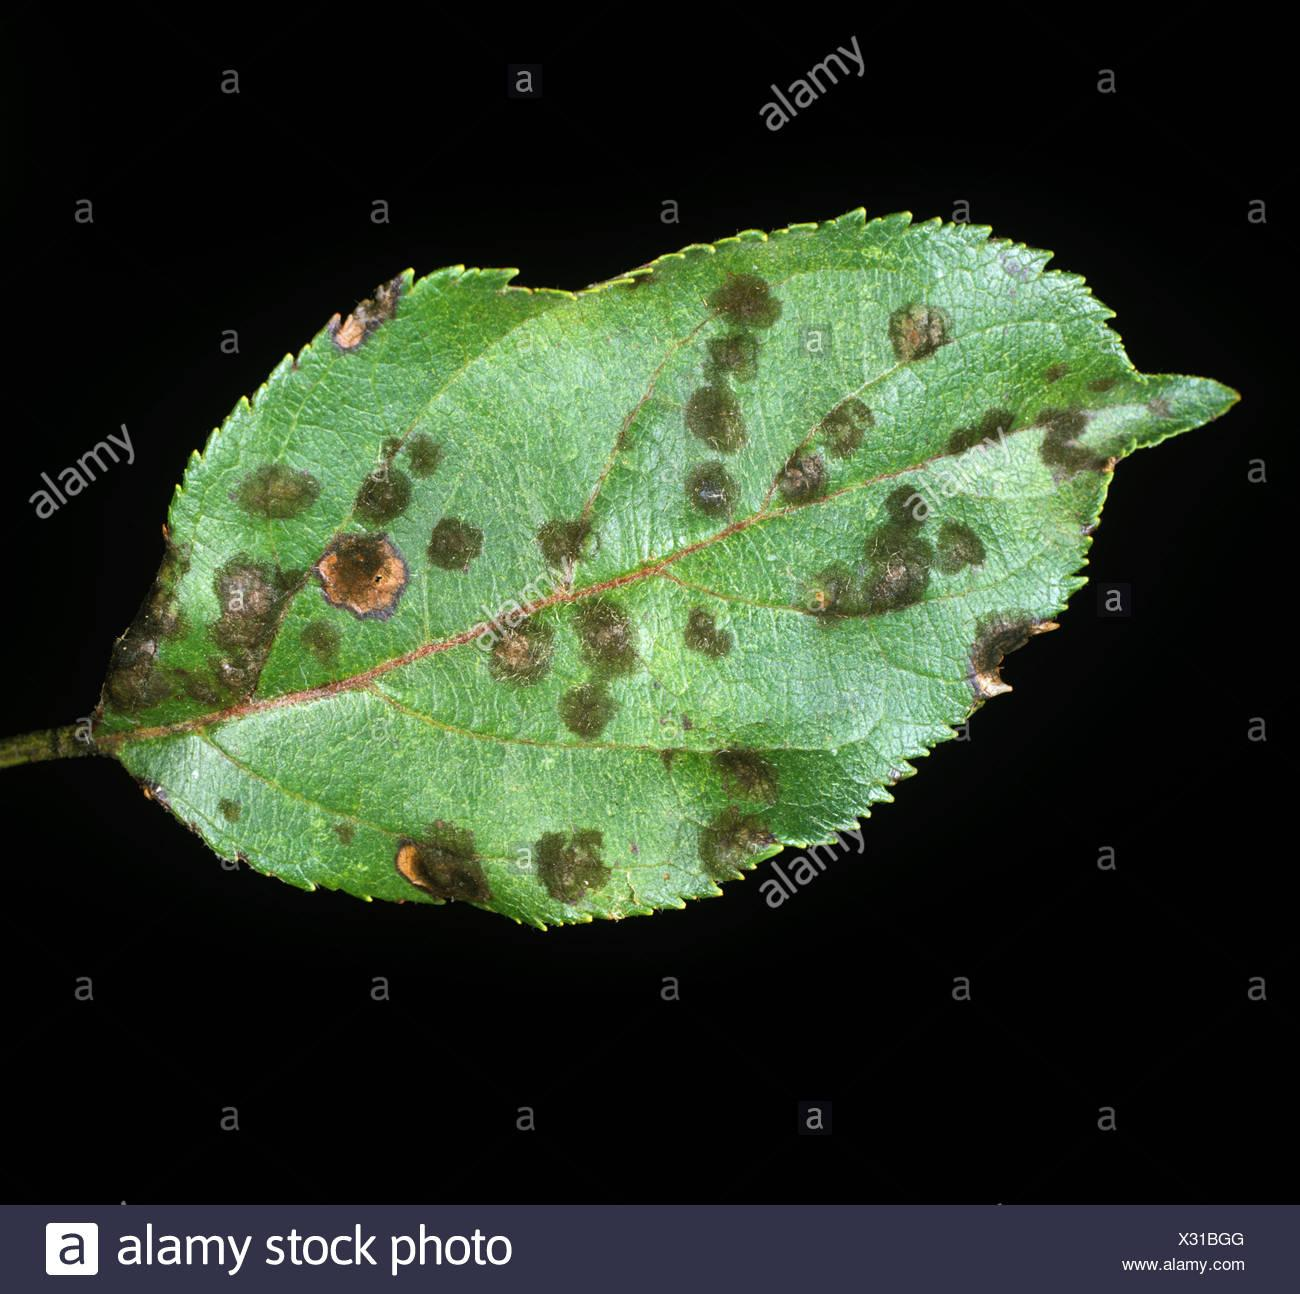Apple Scab Leaf: (59, 180, 1268, 944)
